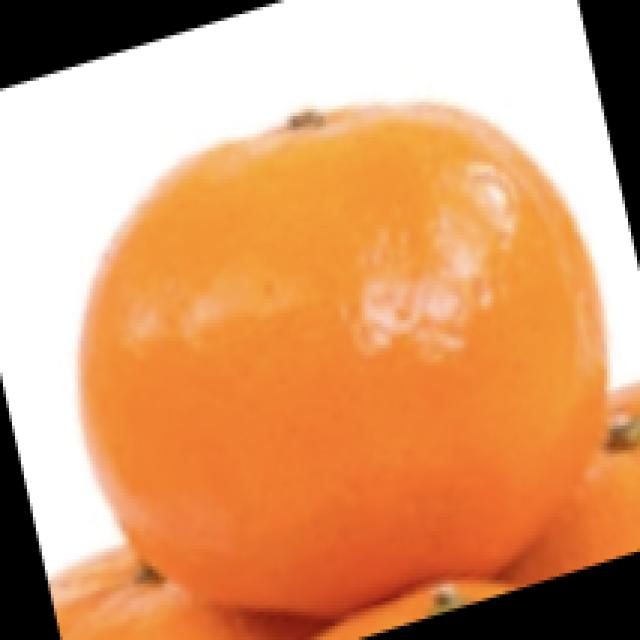matang: (75, 104, 605, 614), (505, 381, 637, 576), (56, 545, 333, 636)
